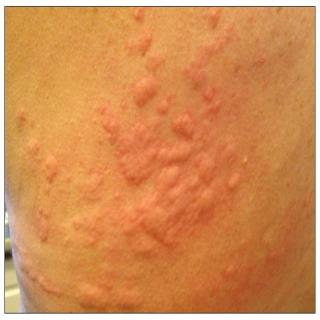urticaria: (102, 92, 264, 281), (10, 94, 93, 285), (183, 11, 303, 87), (126, 5, 175, 112), (63, 290, 159, 312)
